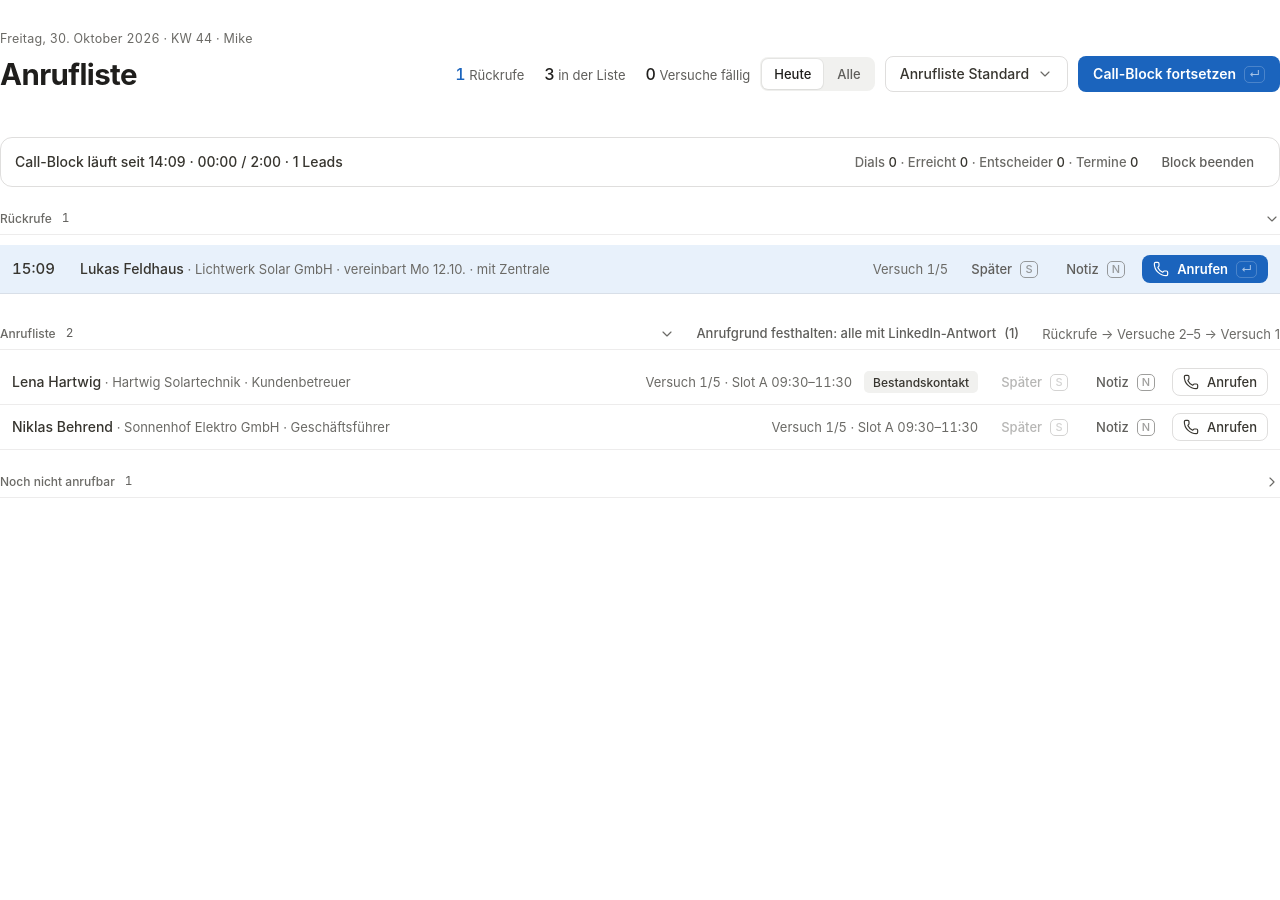
Test: TelefonSeite › Segment „Alle“ zeigt kommende Versuche; laufender Block zeigt die Hinweiszeile mit „Block beenden“
This screenshot has width=1280, height=900.
Expected: the list named "Anrufliste" is shown, [0,360,1279,450]
Expected: the list "Kommend" is not shown
Click the button "Alle". click: (849, 74)
box: [825,59,873,89]
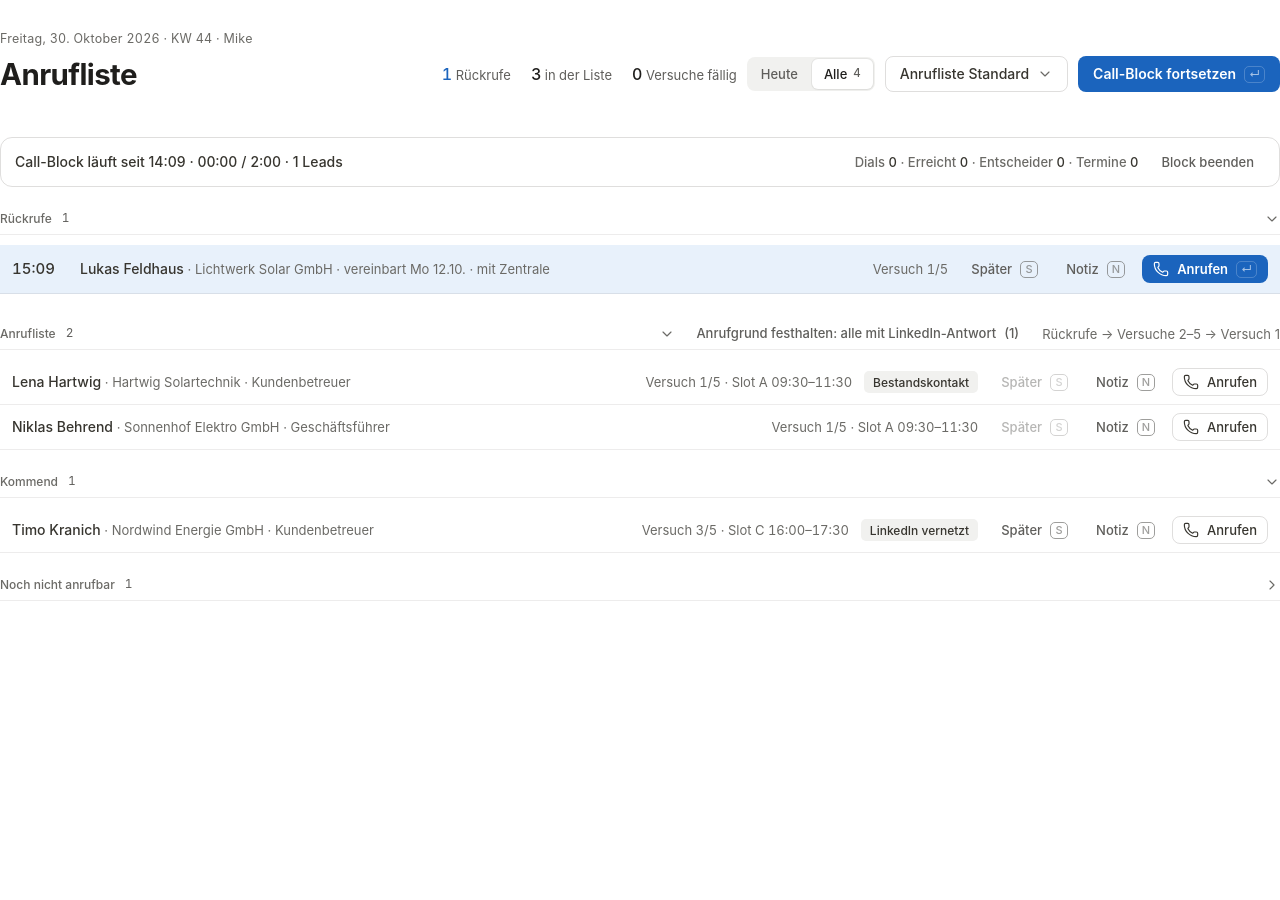
Expected: the message shows "Call-Block läuft seit", [15,153,149,170]
Result: the option that starts with "Timo Kranich" is shown at [0,508,1279,553]
Click the button "Block beenden". click: (1208, 162)
box: [1150,148,1265,176]
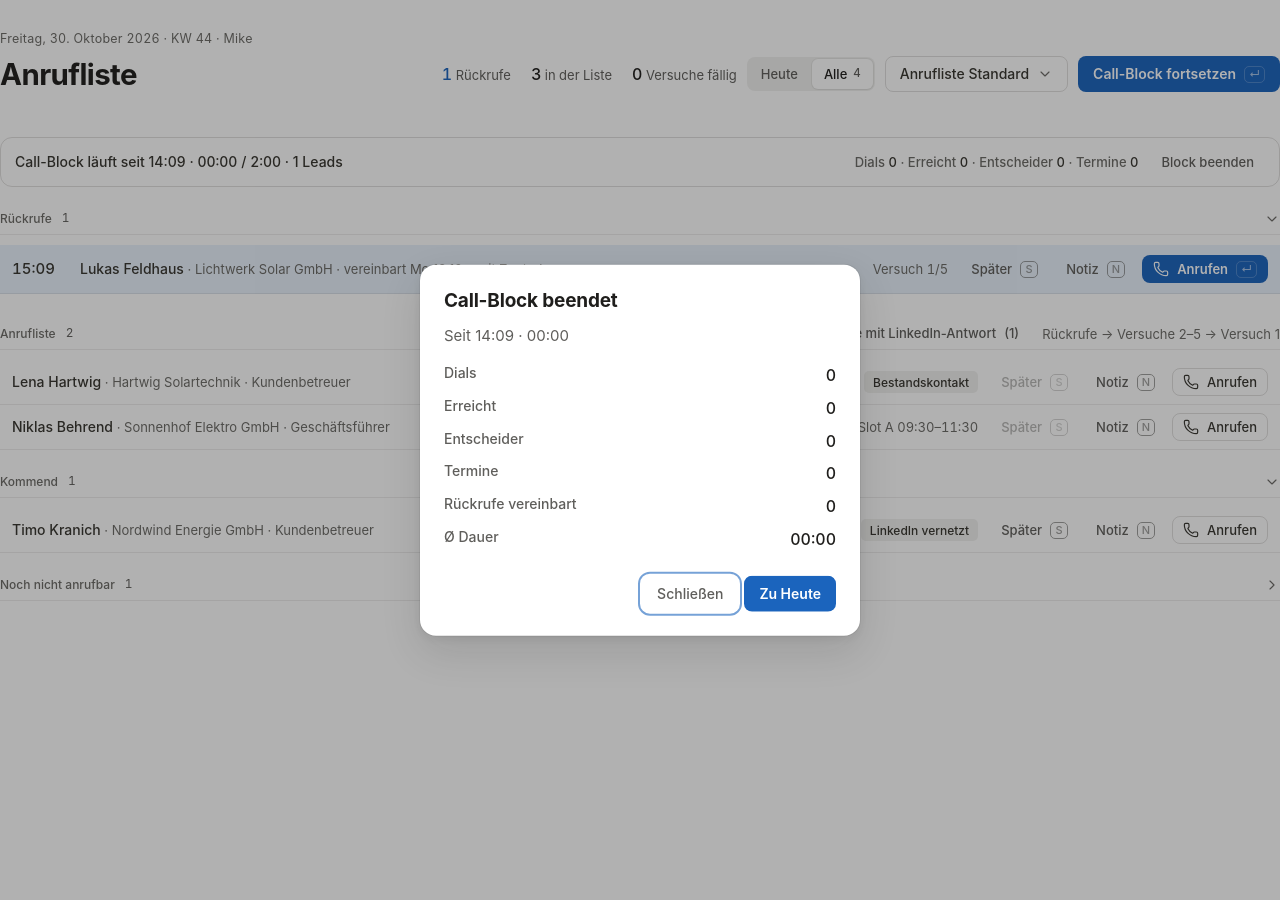
Result: the dialog "Call-Block beendet" is shown at [420,265,860,635]
